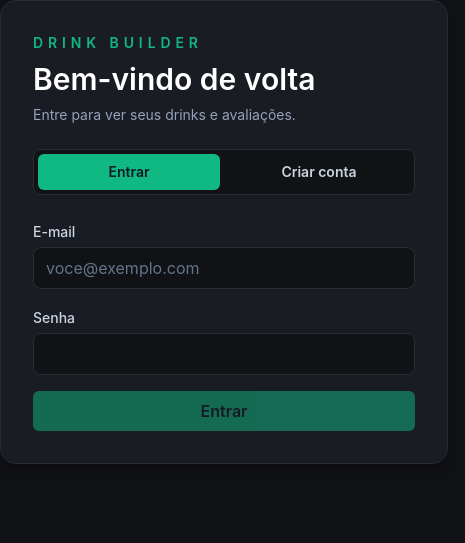
Test: AuthPage › login recusado (401) mostra "E-mail ou senha incorretos."
The image size is (465, 543).
Type "eu@exemplo.com" into the field labelled "E-mail".
click(224, 268); type("eu@exemplo.com")  # box [33, 247, 415, 289]
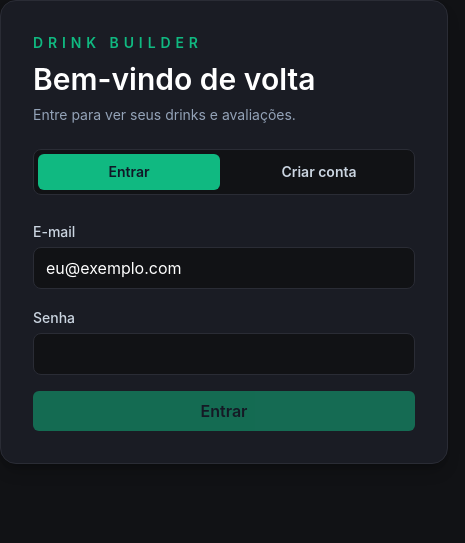
Type "errada" into the password field labelled "Senha".
click(224, 354); type("errada")  # box [33, 333, 415, 375]
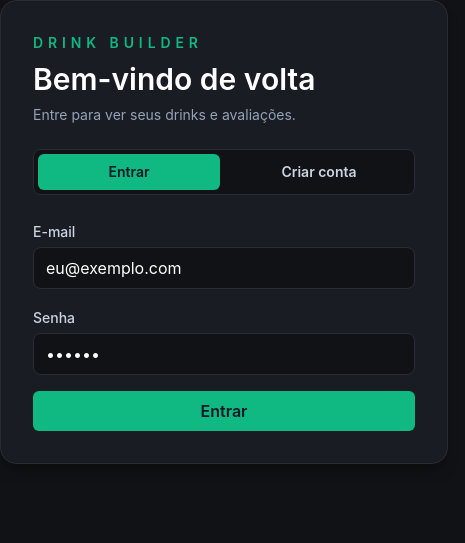
Click the button "Entrar".
click(224, 411)  # box [33, 391, 415, 431]
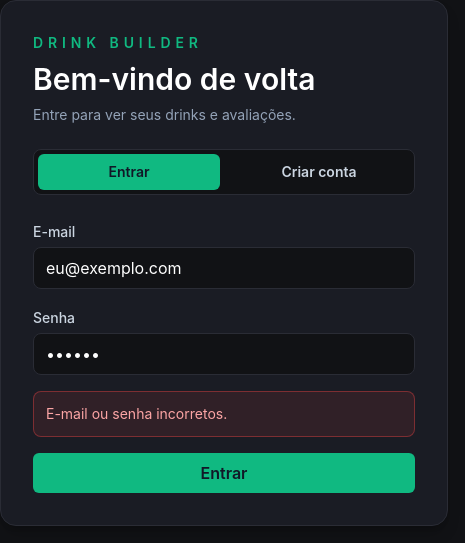
Expected: the list item "E-mail ou senha incorretos." is shown, [46, 405, 227, 422]
